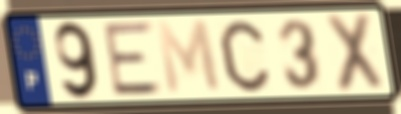3: (275, 17, 321, 92)
9: (52, 19, 102, 102)
C: (217, 17, 272, 94)
E: (101, 19, 166, 99)
M: (153, 17, 225, 97)
X: (322, 11, 387, 95)
